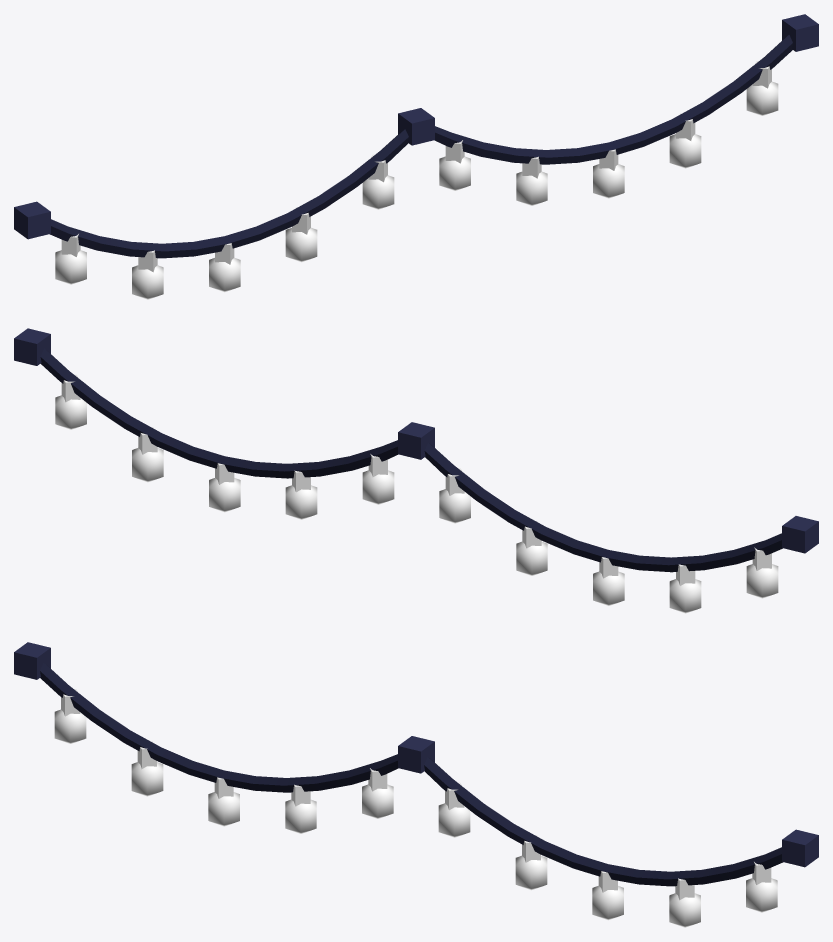
The model's file is Xmas_Lights_8.fbx.
3 views of the same model, one above another, from view 1: azimuth 30°, elevation 25°; view 2: azimuth 150°, elevation 25°; view 3: azimuth 330°, elevation 25° (orthographic).
Parts seen in each view (by area): view 1: Xmas_Lights_8, Xmas_Lights_8_Bulbs; view 2: Xmas_Lights_8, Xmas_Lights_8_Bulbs; view 3: Xmas_Lights_8, Xmas_Lights_8_Bulbs.
Boxes of the visible parts, x1=… form: Xmas_Lights_8: x1=14, y1=14, x2=818, y2=258; Xmas_Lights_8_Bulbs: x1=55, y1=61, x2=778, y2=299; Xmas_Lights_8: x1=14, y1=328, x2=818, y2=572; Xmas_Lights_8_Bulbs: x1=55, y1=374, x2=778, y2=613; Xmas_Lights_8: x1=14, y1=642, x2=818, y2=886; Xmas_Lights_8_Bulbs: x1=54, y1=689, x2=777, y2=927.
Size of the model in its own units: 8.24 by 1.29 by 0.285.
Materials: 1 (1 with a texture image).
